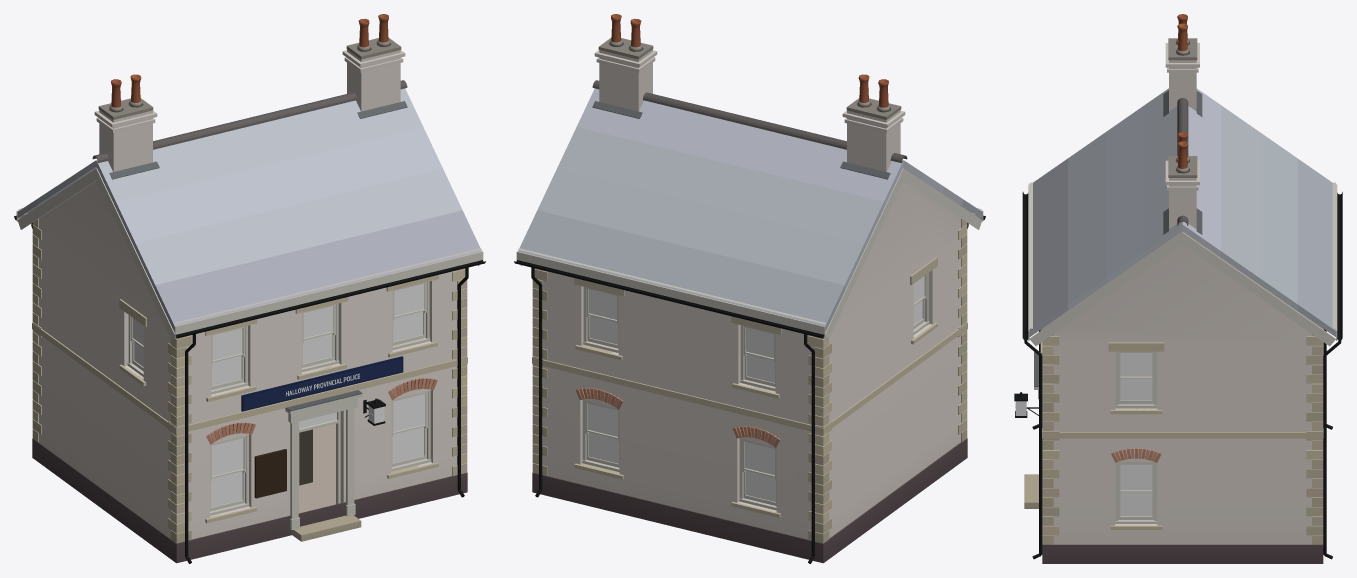
File: town_police_house_a_open_lod1.glb
3 renders of one model, left to right at view 1: azimuth 30°, elevation 25°; view 2: azimuth 150°, elevation 25°; view 3: azimuth 270°, elevation 25°, orthographic. The views are drawn at different scales.
Visible parts, largest first — view 1: body; view 2: body; view 3: body.
Boxes of the visible parts, bbox=[...] form: body: bbox=[14, 14, 485, 563]; body: bbox=[514, 14, 985, 563]; body: bbox=[1022, 14, 1342, 563].
Size of what is drawn, in the model's own units: 7.48 by 9.86 by 7.07.
